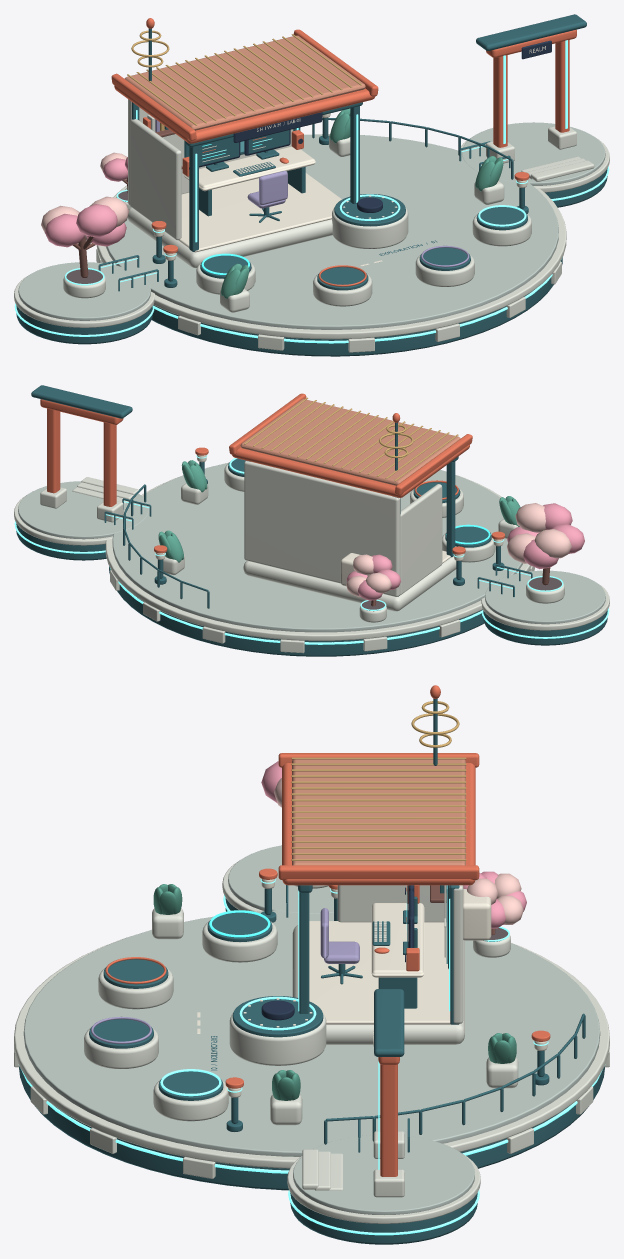
The model's file is sky-district.glb.
3 views of the same model, one above another, from view 1: azimuth 30°, elevation 25°; view 2: azimuth 150°, elevation 25°; view 3: azimuth 270°, elevation 25° (orthographic). The views are drawn at different scales.
Visible parts, largest first — view 1: District_Sandstone deck, District_Pearl ceramic, District_Deep teal, District_Terracotta, District_Warm white, District_Vermilion, District_Champagne hardware, District_Mint glow, District_Sakura, District_Ink blue, District_Jade foliage, District_Lavender ceramic (+3 smaller); view 2: District_Pearl ceramic, District_Sandstone deck, District_Deep teal, District_Terracotta, District_Vermilion, District_Sakura light, District_Champagne hardware, District_Sakura, District_Mint glow, District_Jade foliage, District_Warm white, District_Planter earth; view 3: District_Sandstone deck, District_Pearl ceramic, District_Deep teal, District_Terracotta, District_Warm white, District_Vermilion, District_Champagne hardware, District_Mint glow, District_Jade foliage, District_Sakura light, District_Lavender ceramic, District_Sakura (+1 smaller).
Boxes of the visible parts, x1,y1,x2,y2 form: District_Sandstone deck: (18, 122, 605, 329); District_Pearl ceramic: (14, 99, 609, 352); District_Deep teal: (16, 14, 607, 356); District_Terracotta: (124, 35, 365, 130); District_Warm white: (154, 46, 545, 266); District_Vermilion: (111, 18, 576, 286); District_Champagne hardware: (127, 30, 361, 130); District_Mint glow: (14, 40, 609, 343); District_Sakura: (45, 157, 127, 247); District_Ink blue: (189, 40, 551, 212); District_Jade foliage: (221, 108, 503, 298); District_Lavender ceramic: (155, 119, 469, 267); District_Pearl ceramic: (14, 461, 609, 653); District_Sandstone deck: (18, 462, 605, 632); District_Deep teal: (16, 385, 607, 656); District_Terracotta: (240, 399, 460, 485); District_Vermilion: (40, 393, 504, 554); District_Sakura light: (346, 503, 571, 596); District_Champagne hardware: (244, 397, 458, 481); District_Sakura: (346, 503, 584, 600); District_Mint glow: (14, 455, 609, 644); District_Jade foliage: (158, 460, 520, 562); District_Warm white: (155, 455, 503, 586); District_Planter earth: (362, 577, 561, 611); District_Sandstone deck: (23, 845, 600, 1214); District_Pearl ceramic: (14, 861, 609, 1223); District_Deep teal: (19, 698, 604, 1244); District_Terracotta: (292, 759, 465, 865); District_Warm white: (197, 879, 547, 1097); District_Vermilion: (105, 685, 550, 1176); District_Champagne hardware: (291, 701, 466, 860); District_Mint glow: (18, 879, 605, 1235); District_Jade foliage: (153, 884, 516, 1100); District_Sakura light: (274, 778, 523, 924); District_Lavender ceramic: (91, 908, 359, 1043); District_Sakura: (261, 761, 526, 928).
Size of the model in its own units: 17.17 by 6.83 by 11.58.
